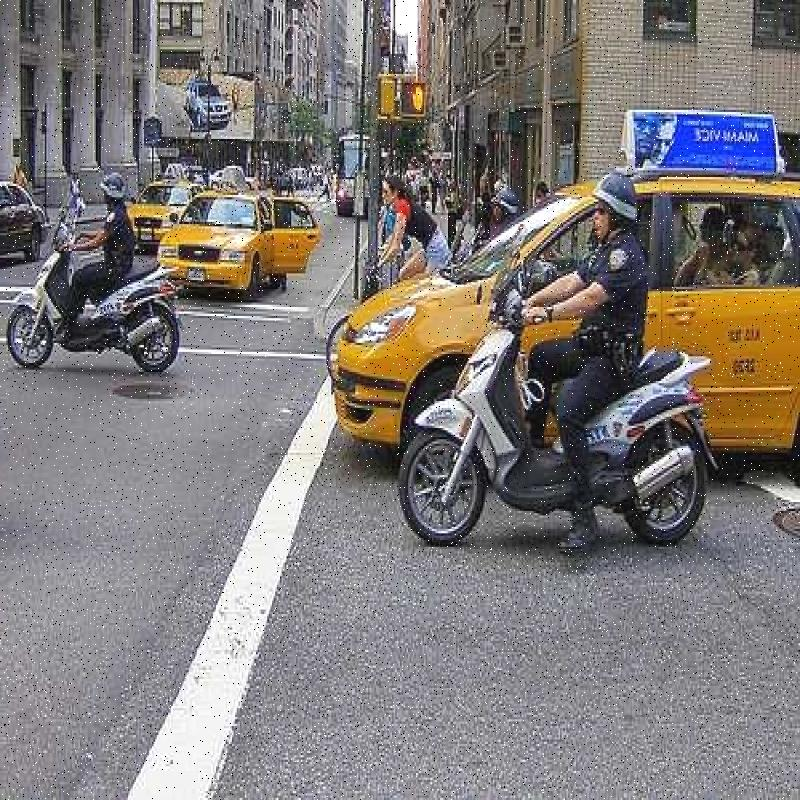bike: (400, 235, 552, 537), (14, 228, 167, 380)
